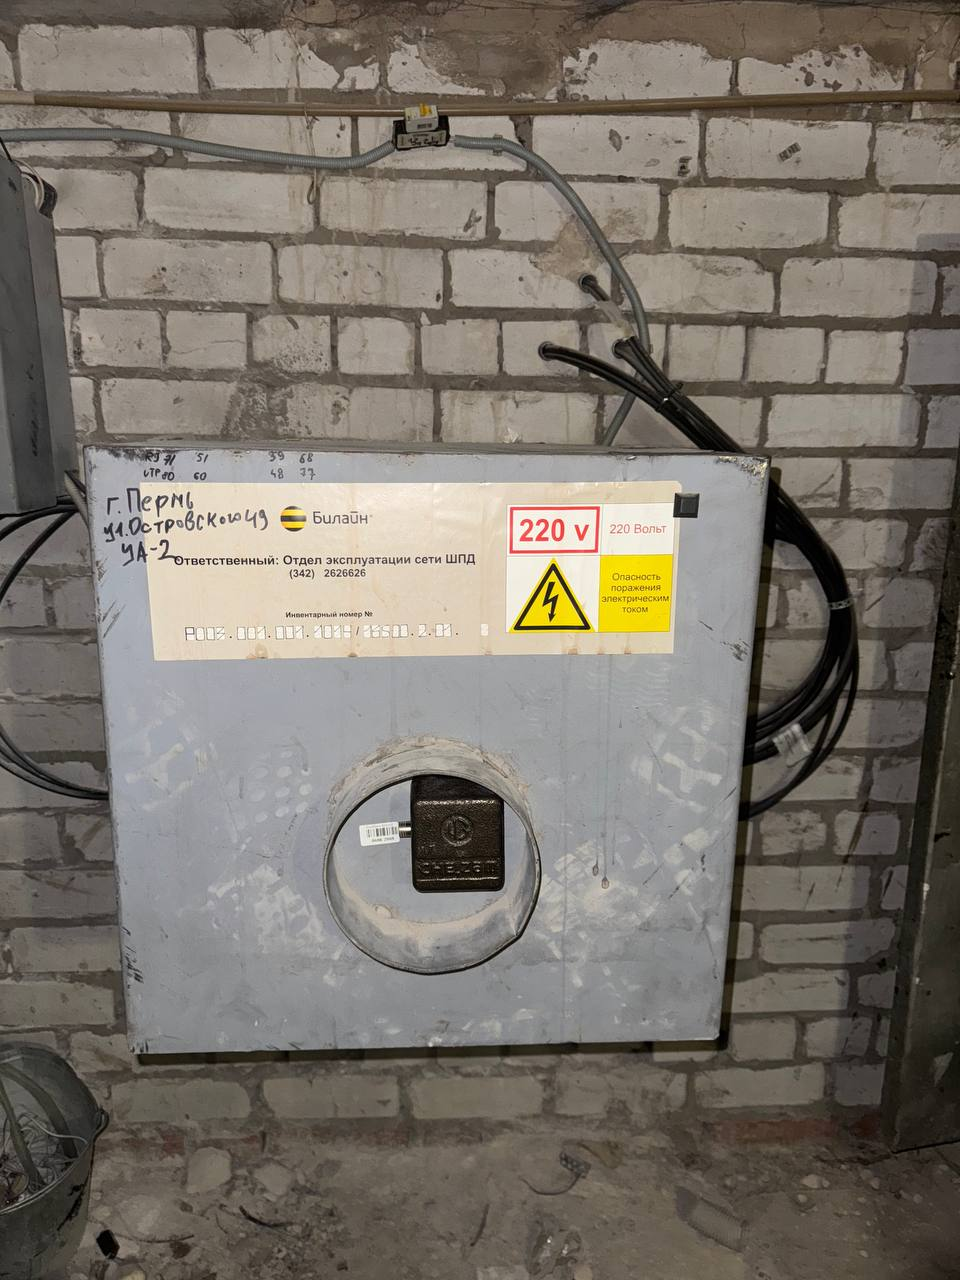shta-9: (66, 424, 788, 1073)
